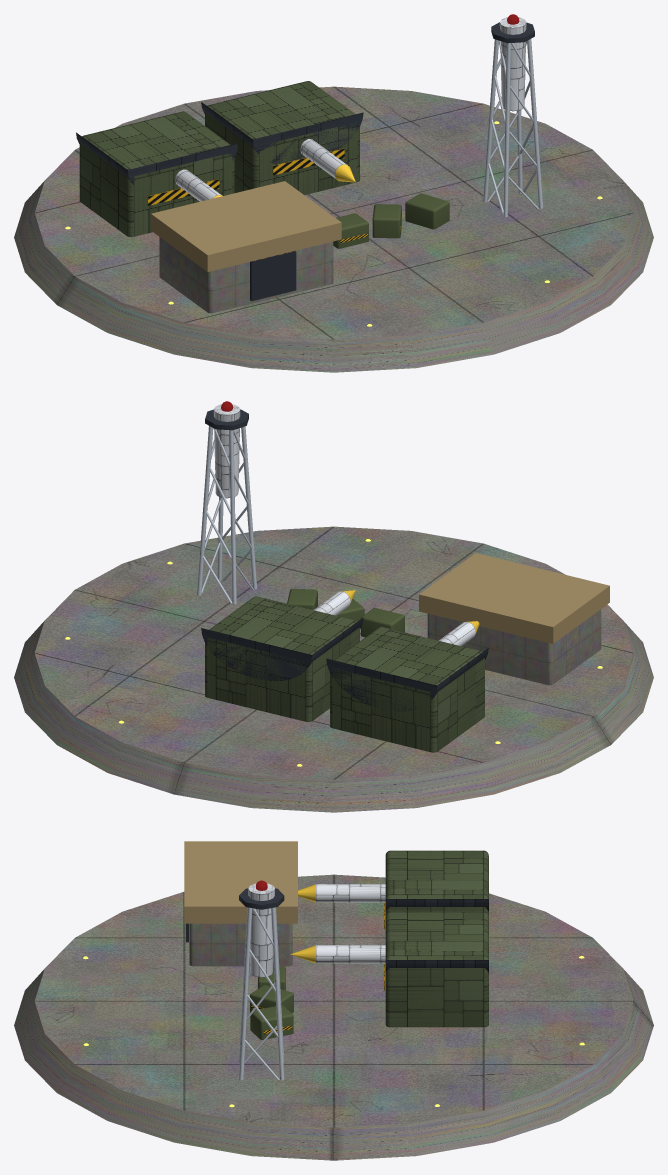
The model's file is ammo-T2.glb.
3 views of the same model, one above another, from view 1: azimuth 30°, elevation 25°; view 2: azimuth 150°, elevation 25°; view 3: azimuth 270°, elevation 25° (orthographic).
Visible parts, largest first — view 1: object 1, object 12, object 23, object 17, object 22, object 18, object 24, object 60, object 13, object 65, object 63, object 61 (+5 smaller); view 2: object 1, object 12, object 17, object 23, object 22, object 18, object 13, object 60, object 61; view 3: object 1, object 17, object 23, object 12, object 22, object 60, object 15, object 20, object 65, object 18, object 13, object 63 (+1 smaller).
Part boxes in pixels (x1,y1,x2,y2): object 1: (14,86,653,372); object 12: (79,111,234,236); object 23: (151,181,341,271); object 17: (205,81,359,194); object 22: (159,237,333,313); object 18: (201,102,363,164); object 24: (250,251,296,301); object 60: (499,17,526,111); object 13: (76,132,238,185); object 65: (405,193,449,229); object 63: (372,204,401,238); object 61: (333,213,368,248); object 1: (14,526,653,812); object 12: (330,627,484,752); object 17: (205,596,359,721); object 23: (419,553,609,643); object 22: (427,609,601,685); object 18: (201,617,363,681); object 13: (326,648,488,711); object 60: (213,404,240,498); object 61: (361,608,404,637); object 1: (14,874,653,1160); object 17: (385,911,488,1027); object 23: (184,841,297,923); object 12: (385,850,488,916); object 22: (189,923,292,966); object 60: (248,883,274,977); object 15: (316,884,385,902); object 20: (316,945,385,963); object 65: (250,1005,293,1039); object 18: (385,960,488,973); object 13: (385,899,488,912); object 63: (250,985,293,1013).
Bounding box in the file's own units: 6.2 × 2.29 × 6.2.
13 materials, 6 textured.
